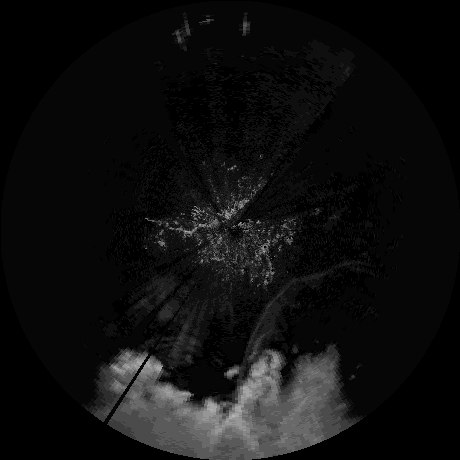frontgust: (246, 262, 349, 356)
